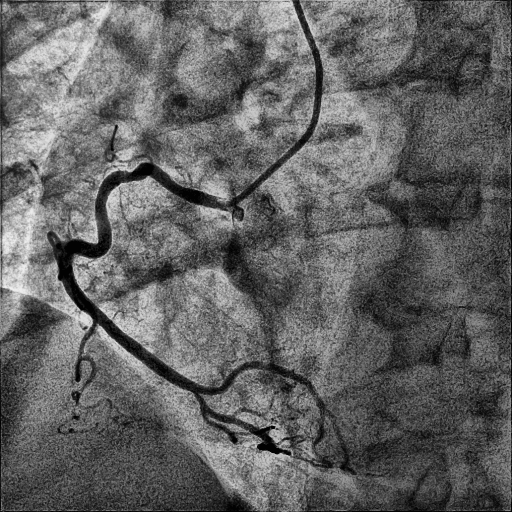pborca: (195, 361, 326, 409)
pda: (195, 393, 291, 455)
rca: (58, 162, 222, 393)
